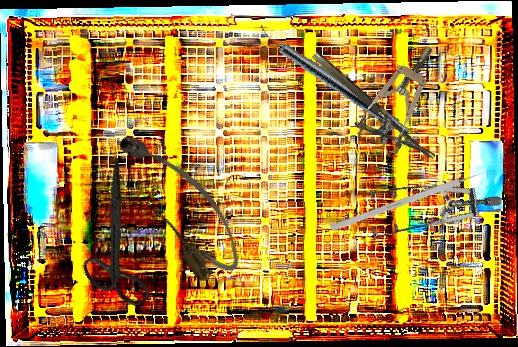Cannula: (107, 114, 253, 291)
Handpiece: (253, 22, 414, 139)
Hook Surgical: (329, 167, 491, 232)
Iris Scissors: (41, 157, 193, 321)
Needle Holder: (297, 49, 436, 179)
Speculum: (351, 143, 503, 284), (351, 36, 452, 160)
